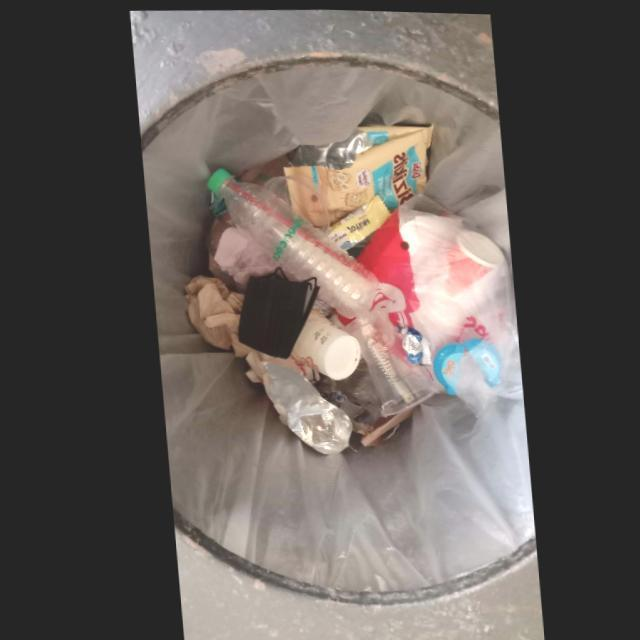paper: (180, 272, 247, 355), (286, 306, 357, 378)
plastic: (204, 166, 376, 315), (338, 305, 435, 414), (257, 360, 347, 452)
wrapper: (280, 122, 431, 224), (323, 192, 388, 247), (394, 323, 427, 363)
